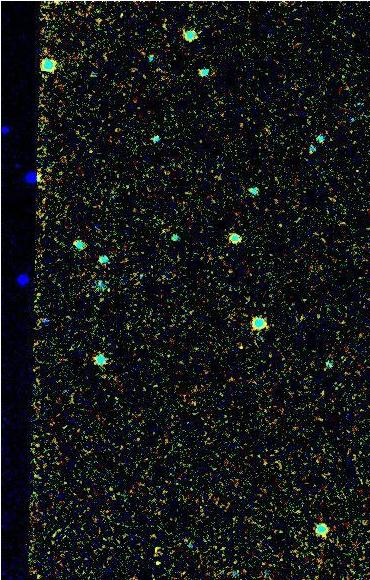star: (142, 544, 172, 574)
